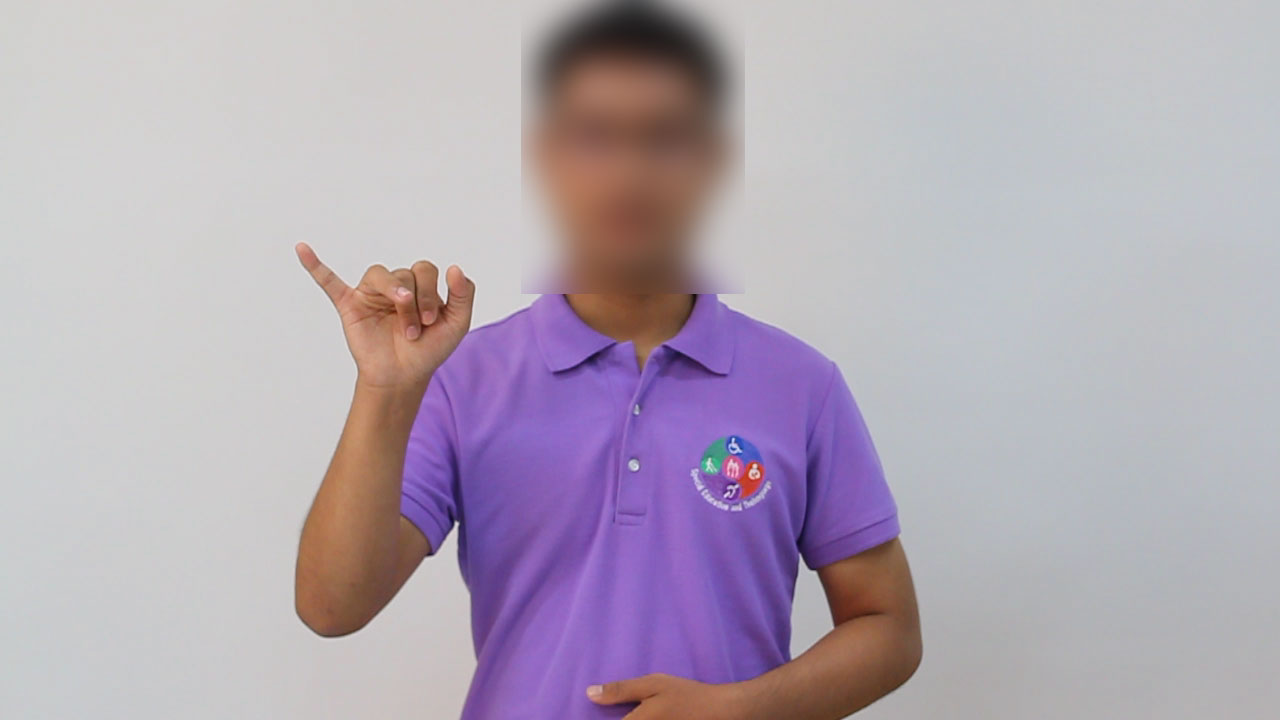yor: (284, 234, 487, 398)
